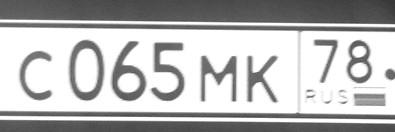license-plateSW: (4, 26, 395, 117)
